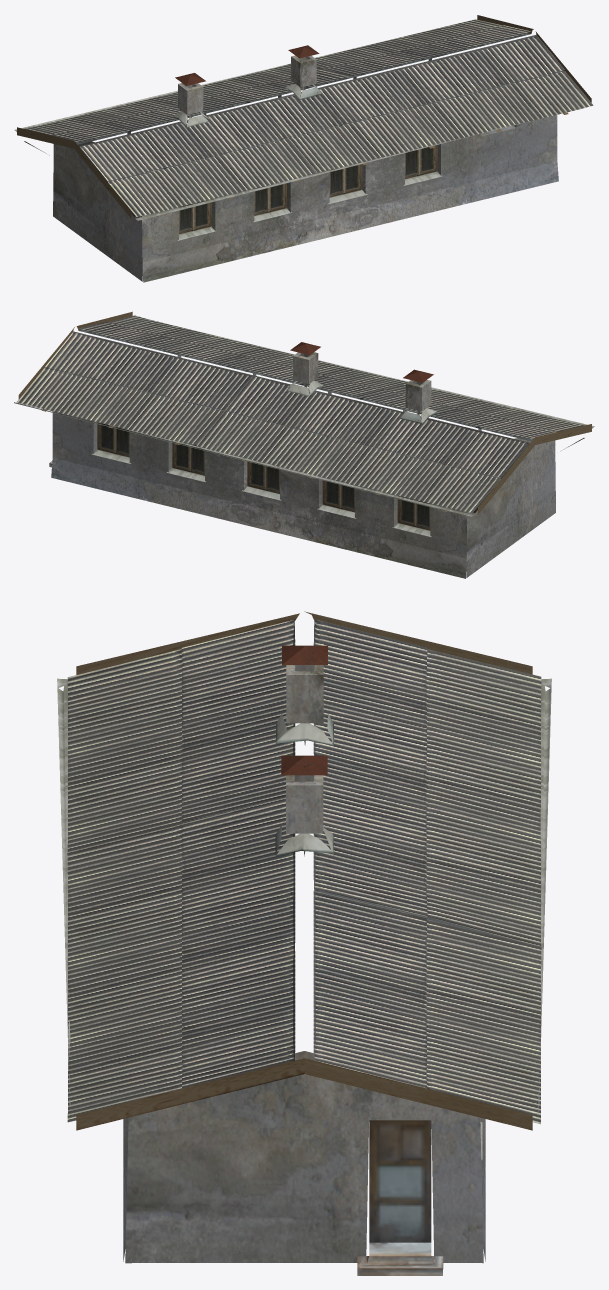
The model's file is basebldg.glb.
The picture shows the model from 3 angles, top to bottom: view 1: azimuth 30°, elevation 25°; view 2: azimuth 150°, elevation 25°; view 3: azimuth 270°, elevation 25°; orthographic projection. The views are drawn at different scales.
Parts seen in each view (by area): view 1: Object_2; view 2: Object_2; view 3: Object_2.
Boxes of the visible parts, left/top/right/bottom form: Object_2: left=14, top=15, right=593, bottom=282; Object_2: left=14, top=311, right=594, bottom=578; Object_2: left=57, top=611, right=551, bottom=1275.
Size of the model in its own units: 15.07 by 4.73 by 6.99.
1 material, 1 textured.
